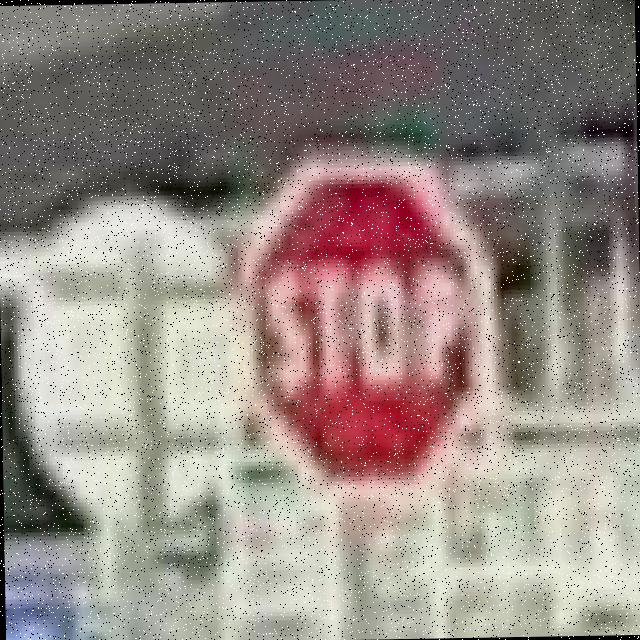Stop: (247, 160, 498, 486)
